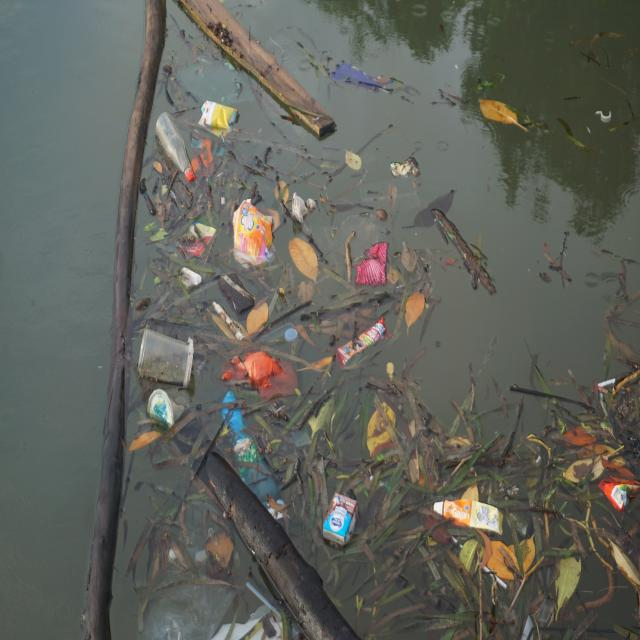Botol Plastik: (155, 111, 199, 194), (284, 328, 298, 344)
Bungkus Makanan: (336, 315, 392, 369), (196, 97, 240, 162), (597, 469, 640, 515), (180, 217, 217, 262)
Bungkus Minuman: (136, 323, 199, 392), (147, 383, 190, 433)
Kantong Plastik: (142, 500, 237, 640), (222, 340, 303, 403)
